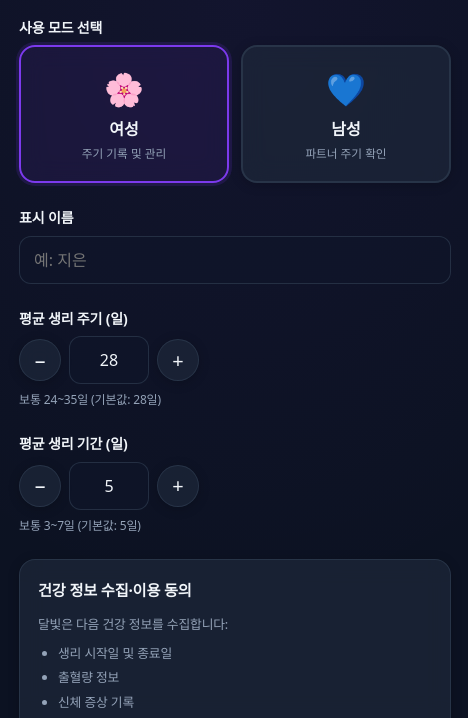
Scenario: OnboardingPage › 주기 길이 증감 버튼 동작
(page scrolled)
Expected: the number field labelled "평균 생리 주기 (일)" holds "28", x1=69 y1=336 x2=149 y2=384
Find + button near cycle input (first + button)
Click the button "+" below "평균 생리 주기 (일)".
click(178, 360)  # box x1=157 y1=339 x2=199 y2=381
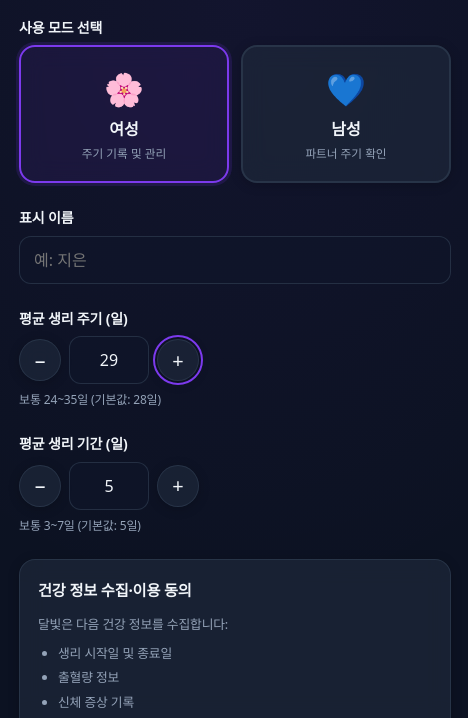
Expected: the number field labelled "평균 생리 주기 (일)" holds "29", x1=69 y1=336 x2=149 y2=384
